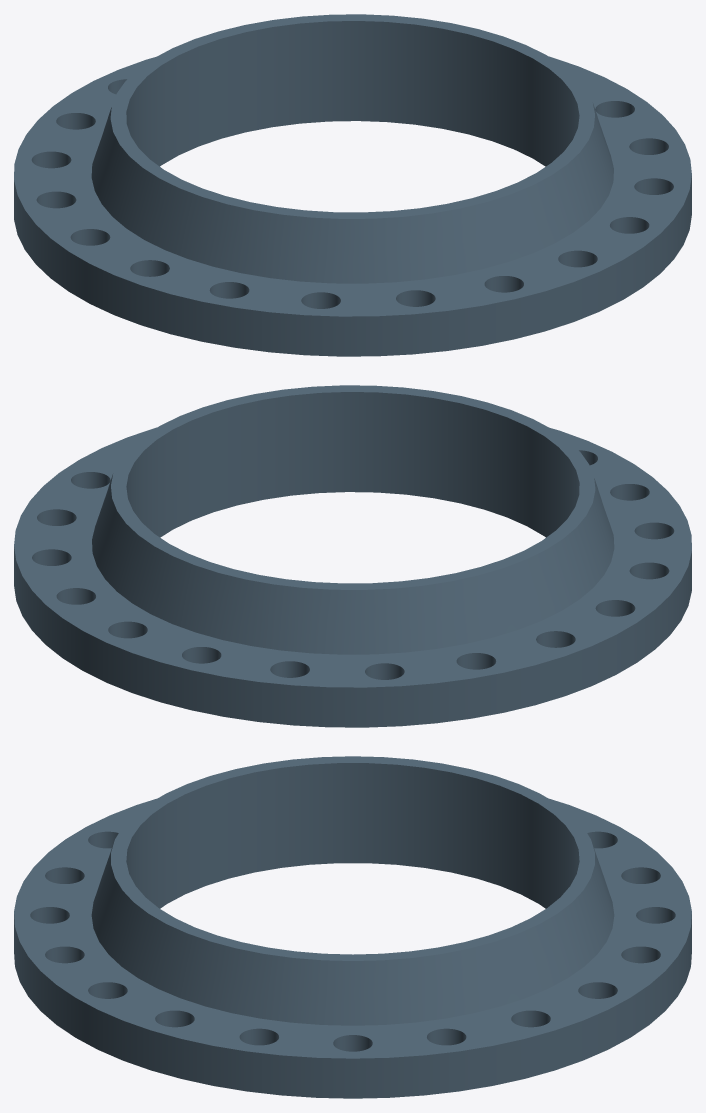
The model's file is flanec-vorotnikovyj-DN600-PN40.glb.
3 views of the same model, one above another, from view 1: azimuth 30°, elevation 25°; view 2: azimuth 150°, elevation 25°; view 3: azimuth 270°, elevation 25° (orthographic).
Visible parts, largest first — view 1: Open CASCADE STEP translator 7.9 108; view 2: Open CASCADE STEP translator 7.9 108; view 3: Open CASCADE STEP translator 7.9 108.
Part boxes in pixels (x1,y1,x2,y2): Open CASCADE STEP translator 7.9 108: (14, 14, 691, 356); Open CASCADE STEP translator 7.9 108: (14, 385, 691, 727); Open CASCADE STEP translator 7.9 108: (14, 756, 691, 1098).
Bounding box in the file's own units: 889 × 145 × 890.
